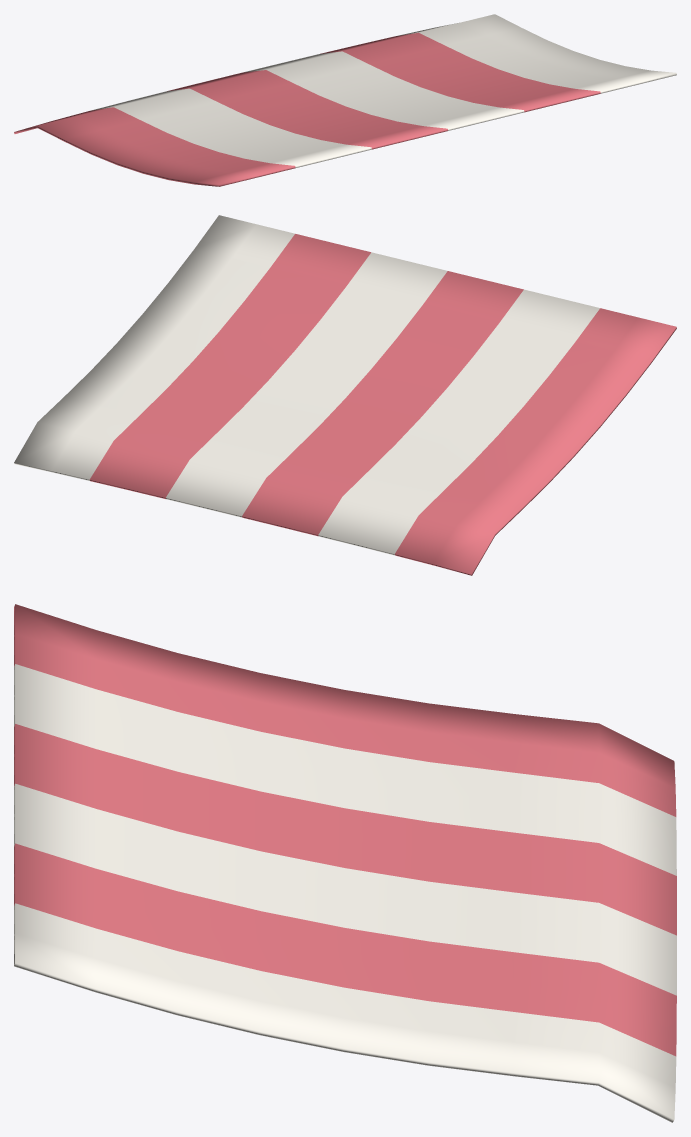
The model's file is awning_cloth_red.glb.
The picture shows the model from 3 angles, top to bottom: view 1: azimuth 30°, elevation 25°; view 2: azimuth 150°, elevation 25°; view 3: azimuth 270°, elevation 25°; orthographic projection. The views are drawn at different scales.
Visible parts, largest first — view 1: awning_cloth_red; view 2: awning_cloth_red; view 3: awning_cloth_red.
Part boxes in pixels (x1,y1,x2,y2): awning_cloth_red: (14, 14, 676, 186); awning_cloth_red: (14, 215, 676, 575); awning_cloth_red: (14, 604, 676, 1122).
Bounding box in the file's own units: 3.5 × 0.7274 × 2.73.
